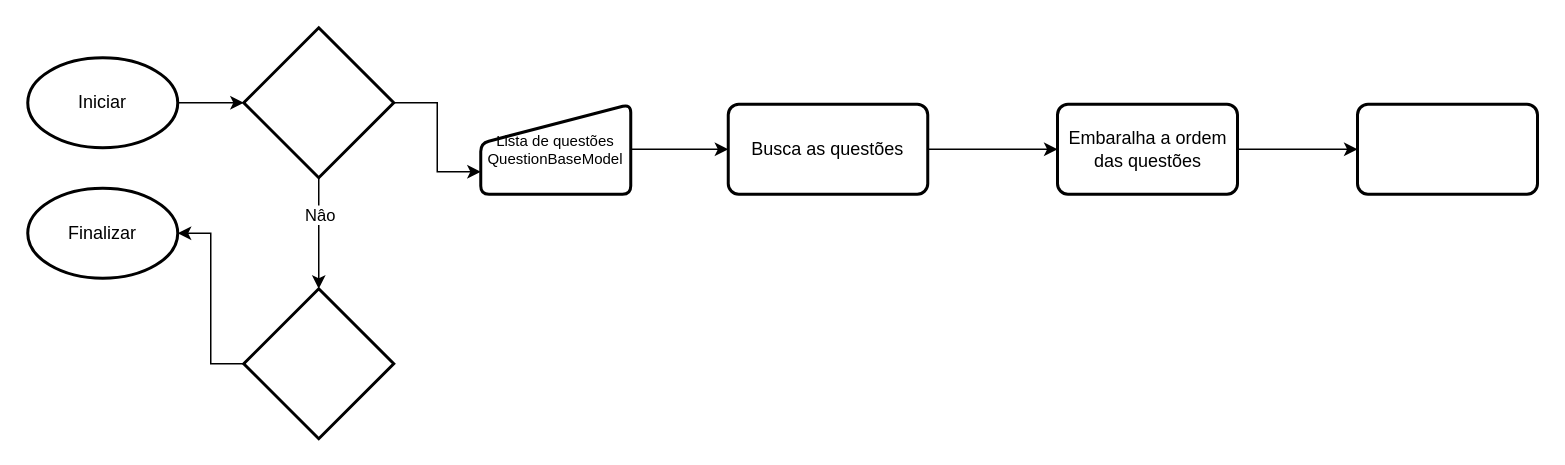
Some shapes in this 1565 by 465 pixel diagram are drawn without their labels. The centre of each missing label's shape, as x and y in pixels:
"Carrega o motor da pergunta" goes at pixel 1446 148.
"Jogar?" goes at pixel 318 102.
"Sair do jogo?" goes at pixel 318 363.
